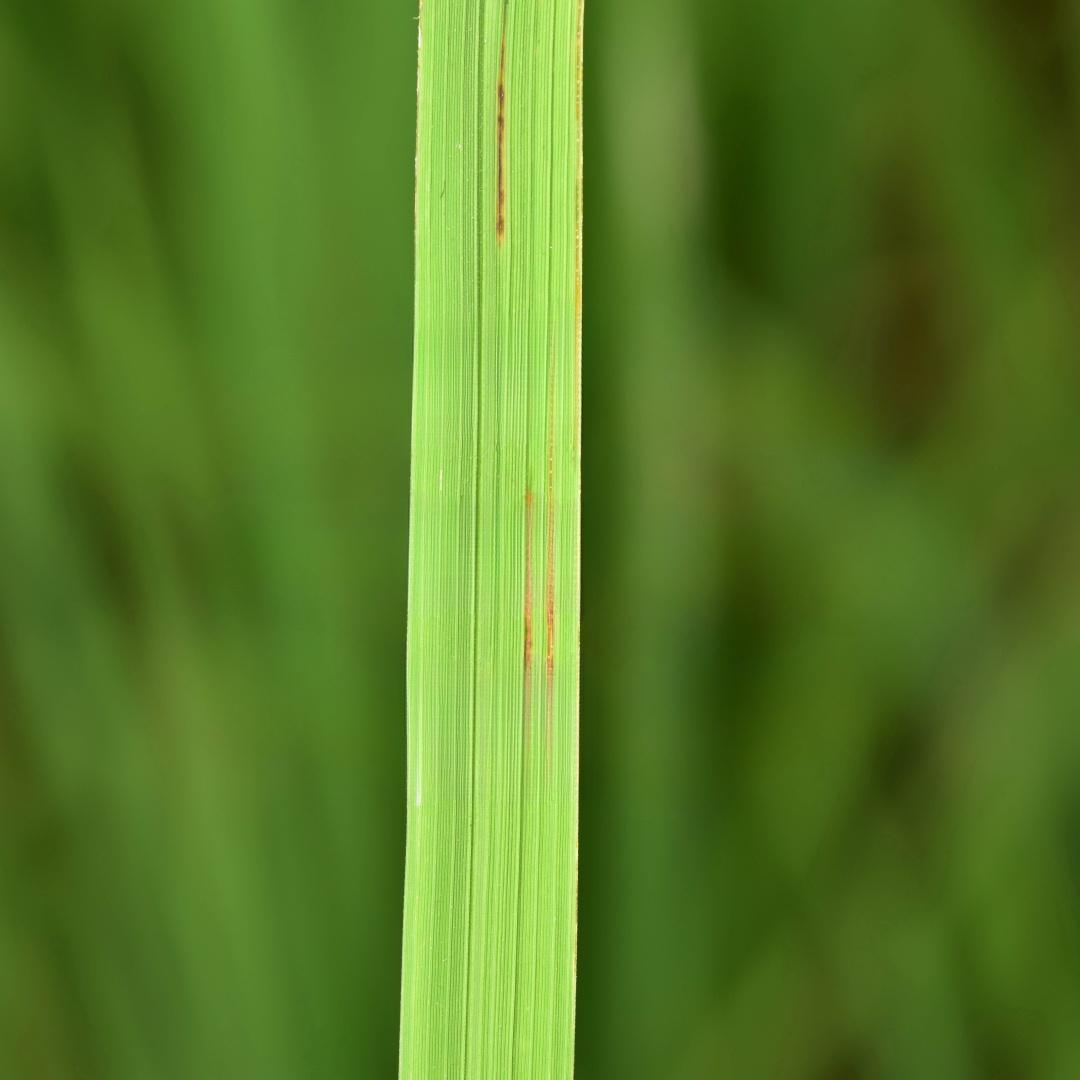BLS: (545, 370, 554, 750), (523, 487, 532, 749), (575, 147, 582, 453), (496, 18, 505, 248), (576, 0, 582, 129)
LEAF: (399, 0, 583, 1079)
